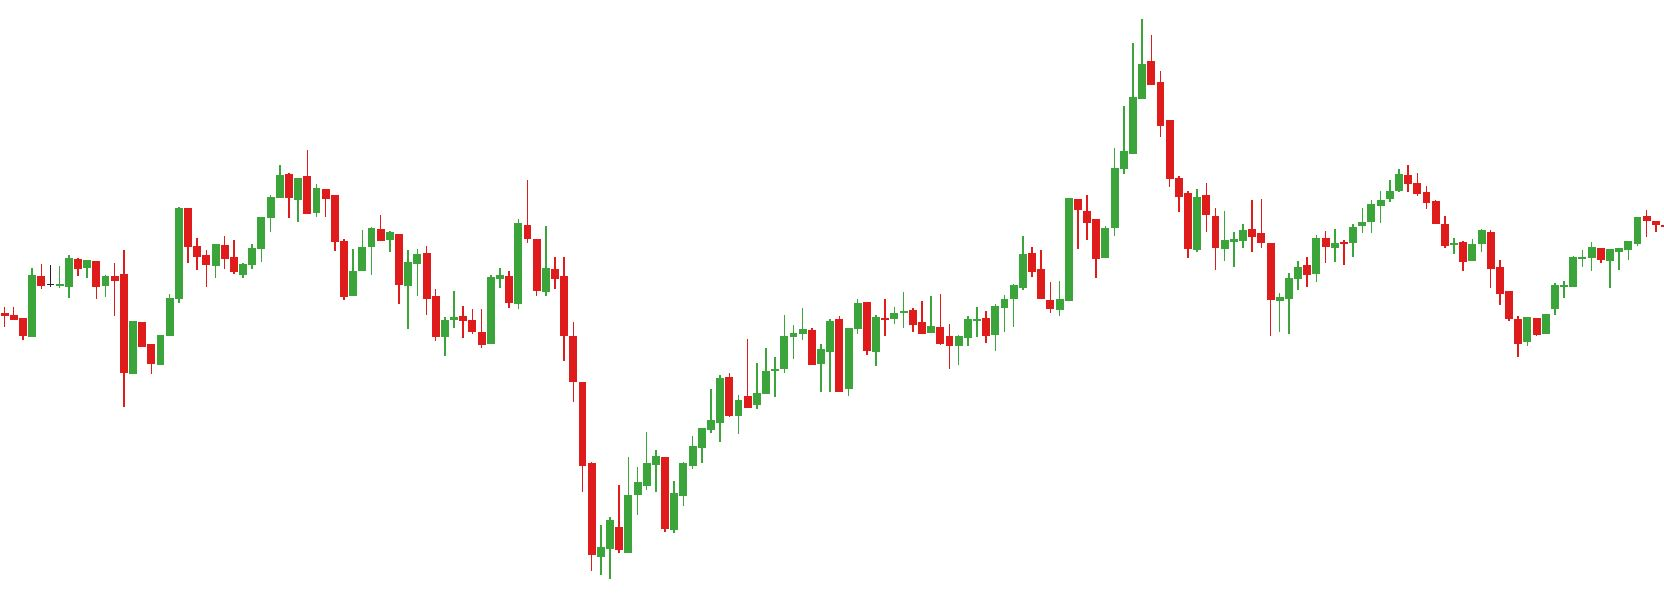buy: (20, 284, 138, 414), (873, 308, 963, 378)
sell: (377, 175, 533, 296)
